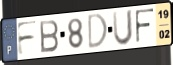8: (66, 17, 86, 50)
B: (39, 19, 60, 55)
D: (87, 12, 109, 51)
F: (16, 19, 39, 58), (134, 7, 155, 45)
U: (111, 9, 134, 48)
